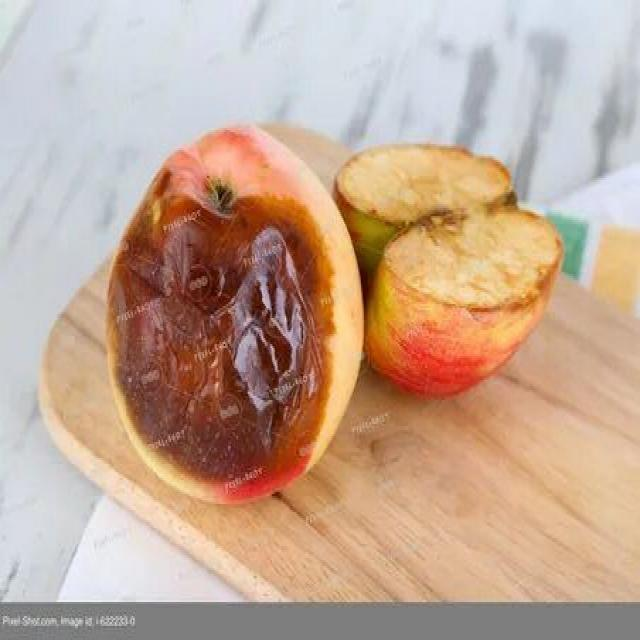Rotten: (142, 150, 368, 513), (353, 134, 565, 384)
